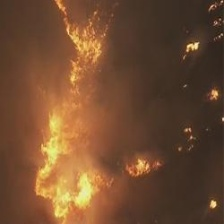fire: (30, 3, 166, 218)
